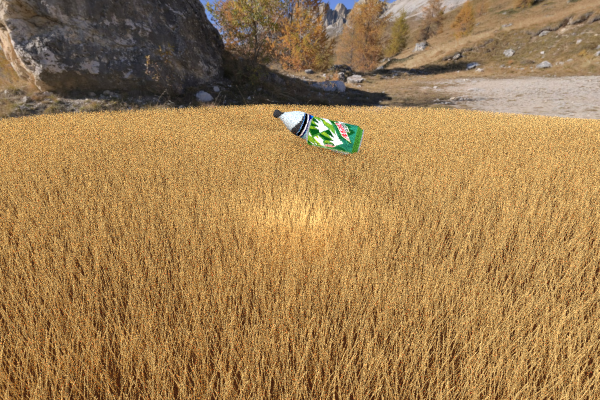Plastic Bottle: (117, 126, 197, 179), (273, 109, 357, 155), (305, 116, 364, 153)
